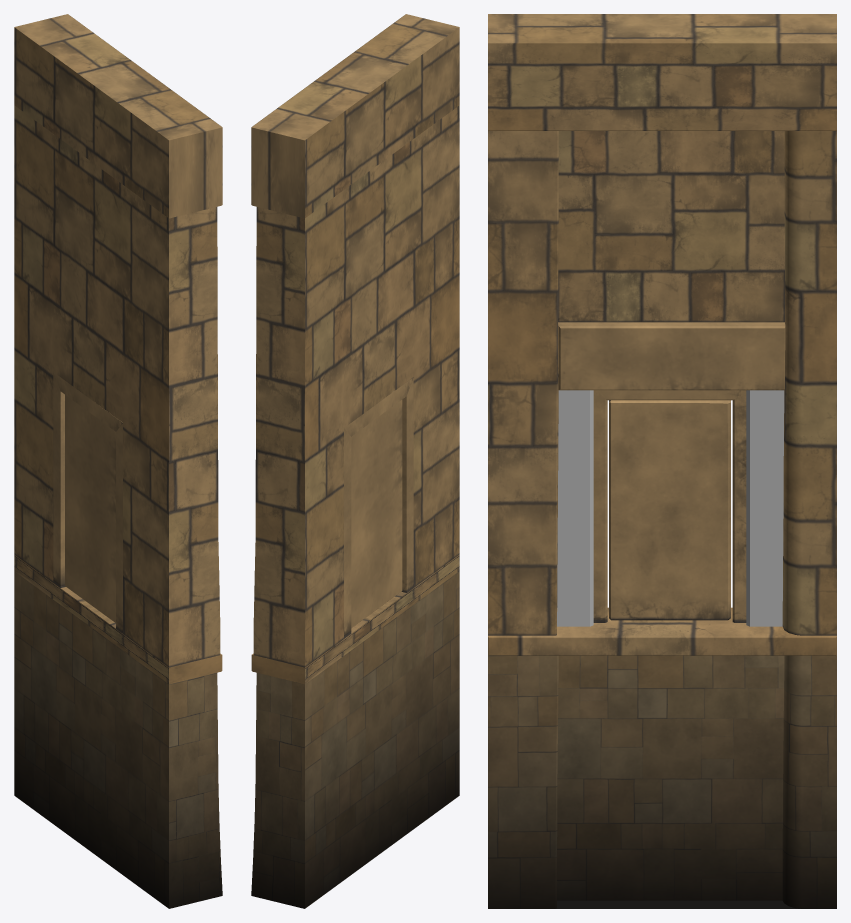
The model's file is AN_WSD.fbx.
The picture shows the model from 3 angles, left to right: view 1: azimuth 30°, elevation 25°; view 2: azimuth 150°, elevation 25°; view 3: azimuth 270°, elevation 25°; orthographic projection. The views are drawn at different scales.
Parts seen in each view (by area): view 1: AN_WSD, AN_WSX_Floor, AN_DO; view 2: AN_WSD, AN_WSX_Floor, AN_DO; view 3: AN_WSD, AN_WSX_Floor, AN_DO.
Boxes of the visible parts, x1=… form: AN_WSD: x1=14, y1=14, x2=222, y2=667; AN_WSX_Floor: x1=14, y1=554, x2=222, y2=908; AN_DO: x1=65, y1=395, x2=115, y2=622; AN_WSD: x1=251, y1=14, x2=459, y2=667; AN_WSX_Floor: x1=251, y1=554, x2=459, y2=908; AN_DO: x1=351, y1=400, x2=402, y2=627; AN_WSD: x1=488, y1=14, x2=836, y2=635; AN_WSX_Floor: x1=488, y1=607, x2=836, y2=908; AN_DO: x1=609, y1=400, x2=730, y2=620.
Size of the model in its own units: 1 by 13.69 by 5.
